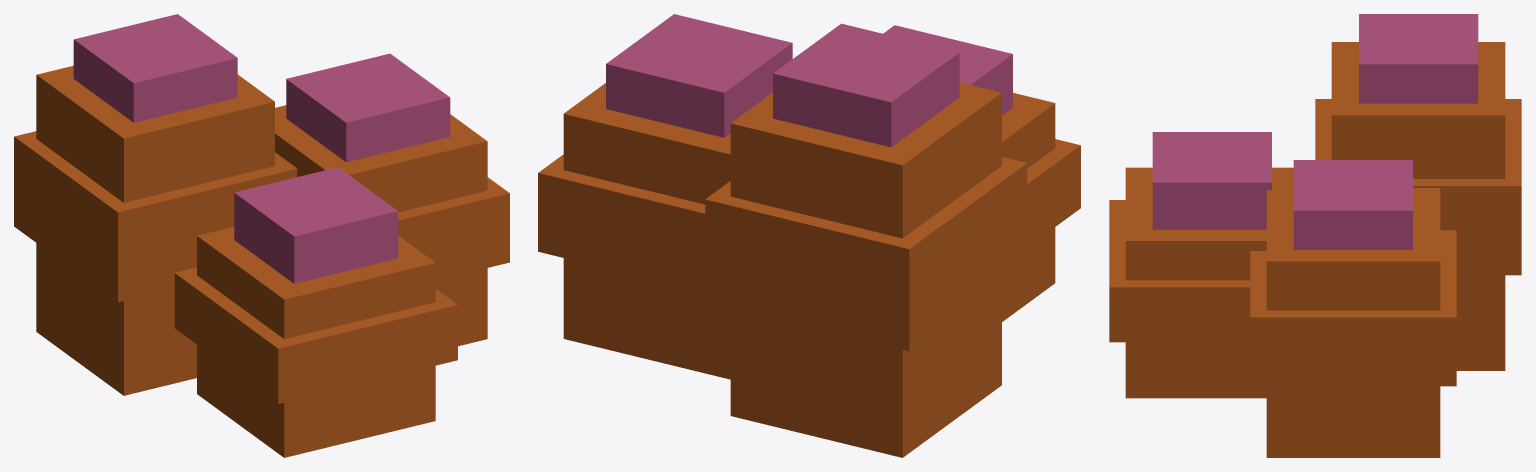
The model's file is Pots.obj.
The picture shows the model from 3 angles, left to right: view 1: azimuth 30°, elevation 25°; view 2: azimuth 150°, elevation 25°; view 3: azimuth 270°, elevation 25°; orthographic projection. The views are drawn at different scales.
Parts seen in each view (by area): view 1: Pots; view 2: Pots; view 3: Pots.
Boxes of the visible parts, x1,y1,x2,y2 form: Pots: (14, 14, 509, 457); Pots: (538, 14, 1080, 457); Pots: (1109, 14, 1521, 457).
Size of the model in its own units: 3.8 by 3 by 3.8.
